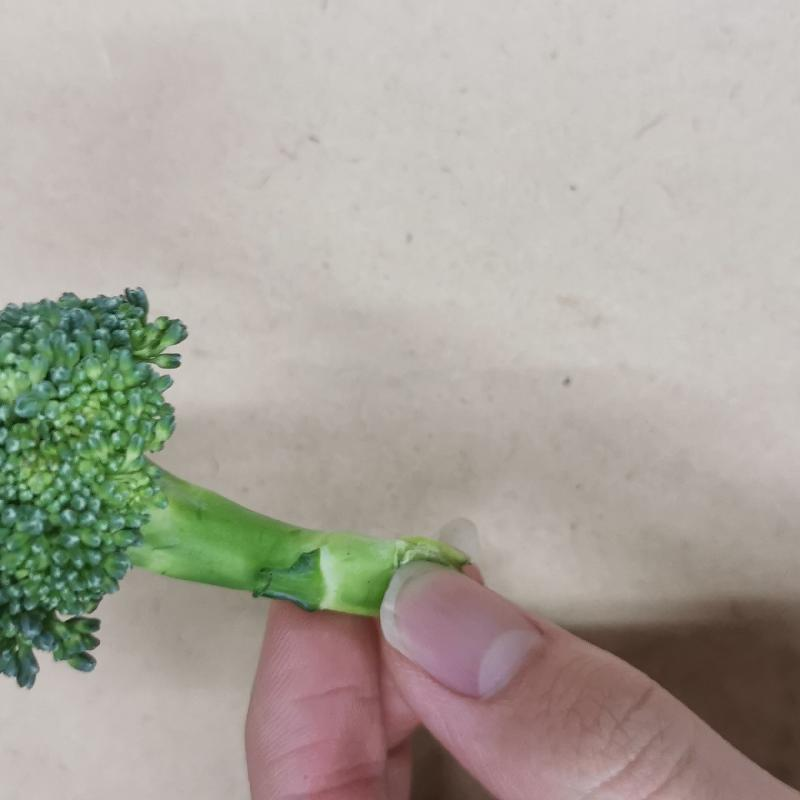broccoli: (2, 286, 490, 686)
